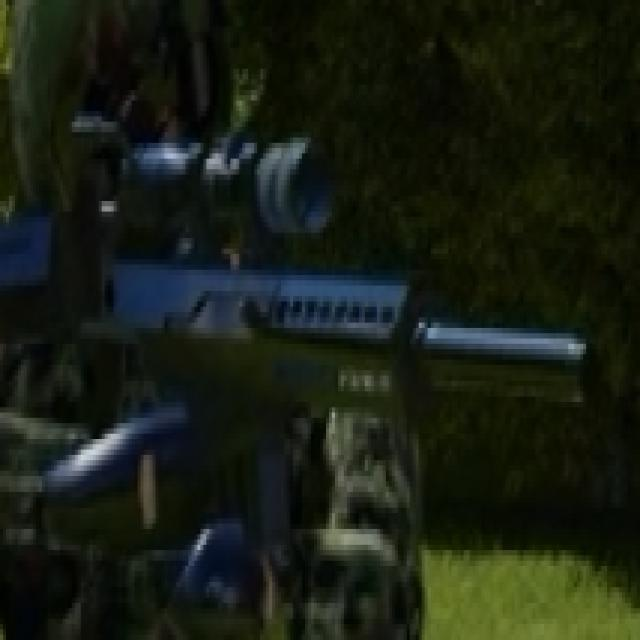RifleTel: (2, 85, 607, 464)
